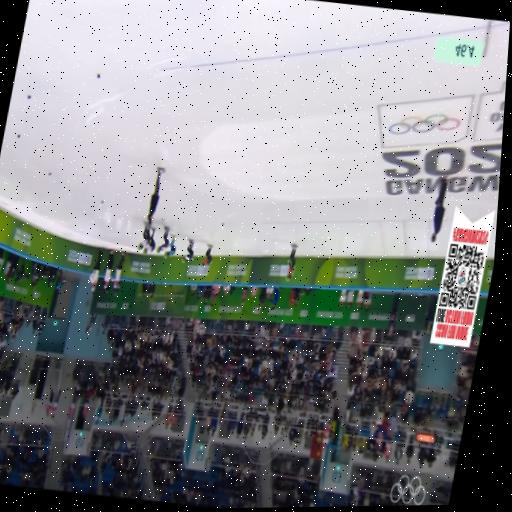Skater: (198, 243, 219, 271), (286, 244, 297, 279), (143, 227, 156, 255), (138, 223, 151, 250), (157, 226, 170, 251), (182, 239, 194, 262), (164, 235, 175, 257)
